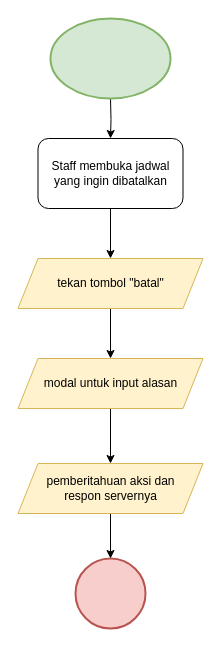
This 220x646 diagram has some shape labels left out. Here are the shapes that lost their labels. From the top down, the centre of each, then its label:
At [110,58]: "staff melihat jadwal".
At [110,593]: "End".
